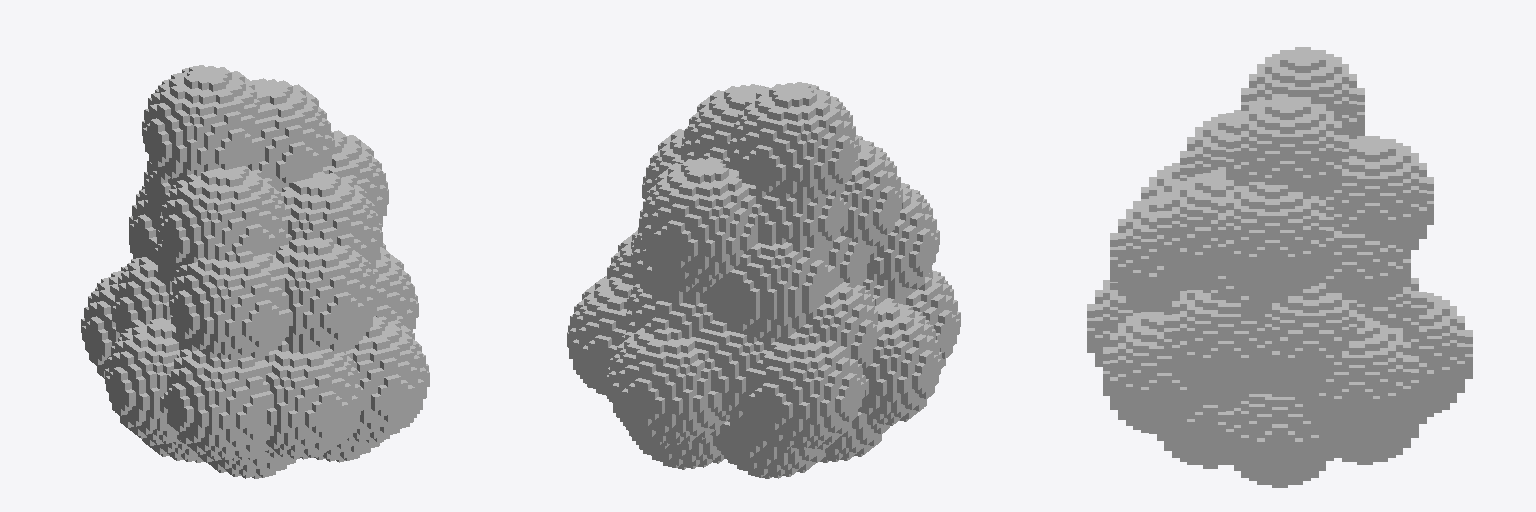
Rendered from tree-1.obj.
3 renders of one model, left to right at view 1: azimuth 30°, elevation 25°; view 2: azimuth 150°, elevation 25°; view 3: azimuth 270°, elevation 25°, orthographic.
Parts seen in each view (by area): view 1: object 1; view 2: object 1; view 3: object 1.
Boxes of the visible parts, box(x1,y1,x2,y2) form: object 1: box(81, 65, 429, 478); object 1: box(567, 82, 960, 478); object 1: box(1087, 47, 1472, 487).
Bounding box in the file's own units: 4.5 × 5.2 × 5.